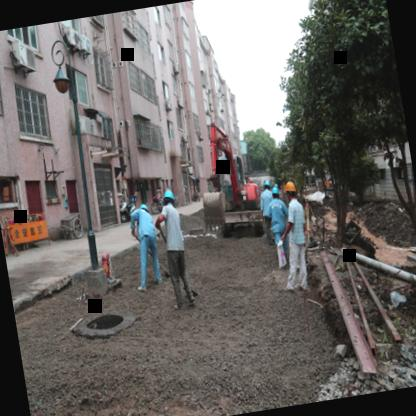helmet: (280, 175, 300, 202), (160, 184, 180, 210), (132, 197, 151, 221), (257, 178, 273, 194), (268, 185, 283, 202)
